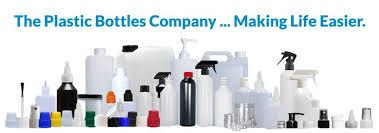Container for household chemicals: (3, 32, 375, 129)
